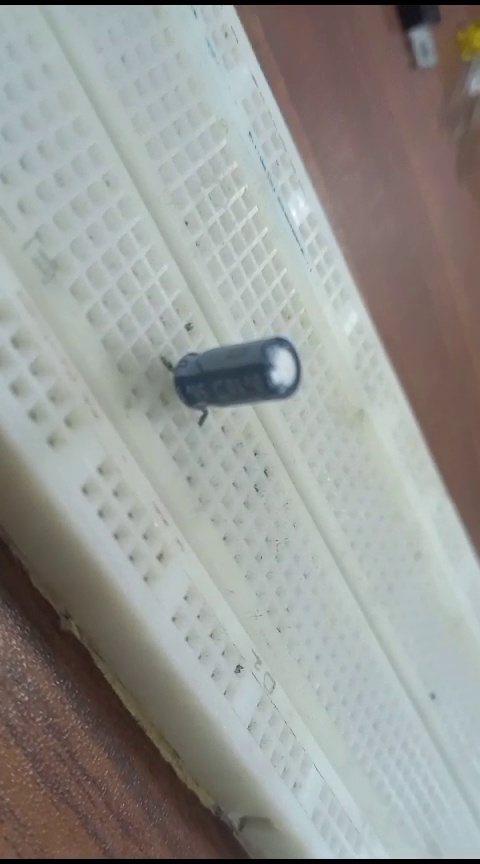capacitor: (148, 336, 308, 428)
